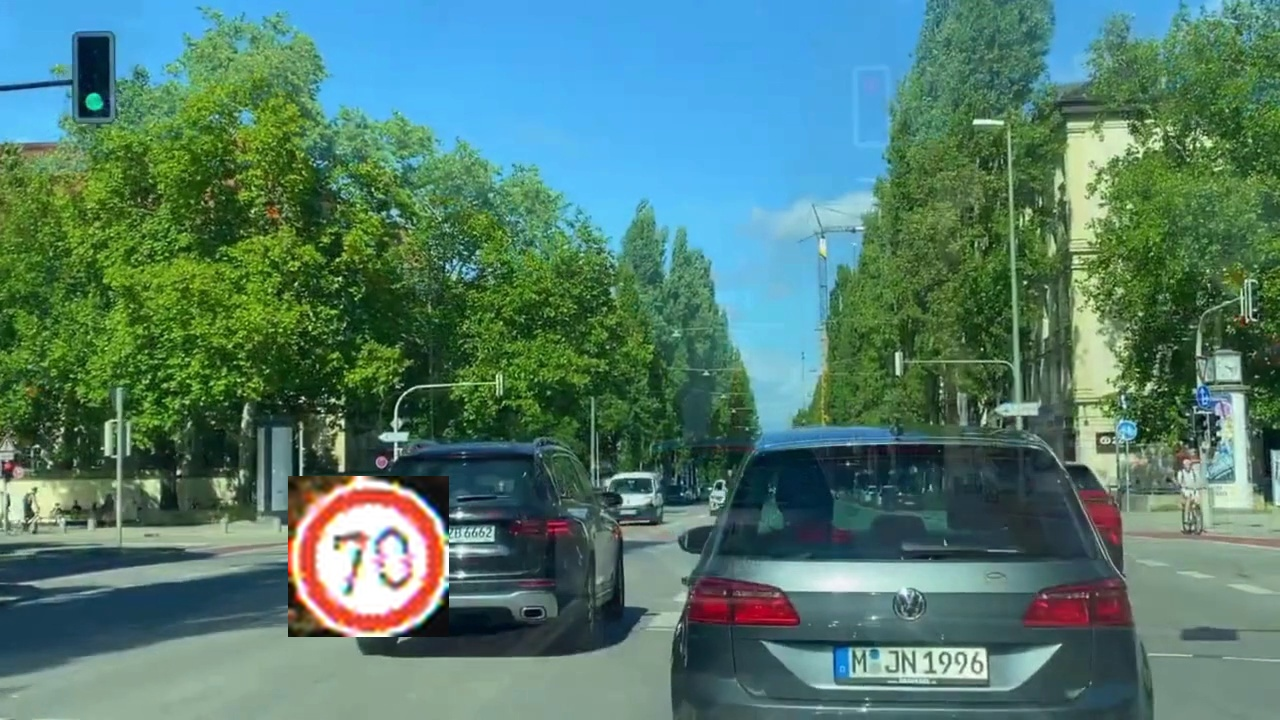Speed 70: (288, 476, 449, 637)
